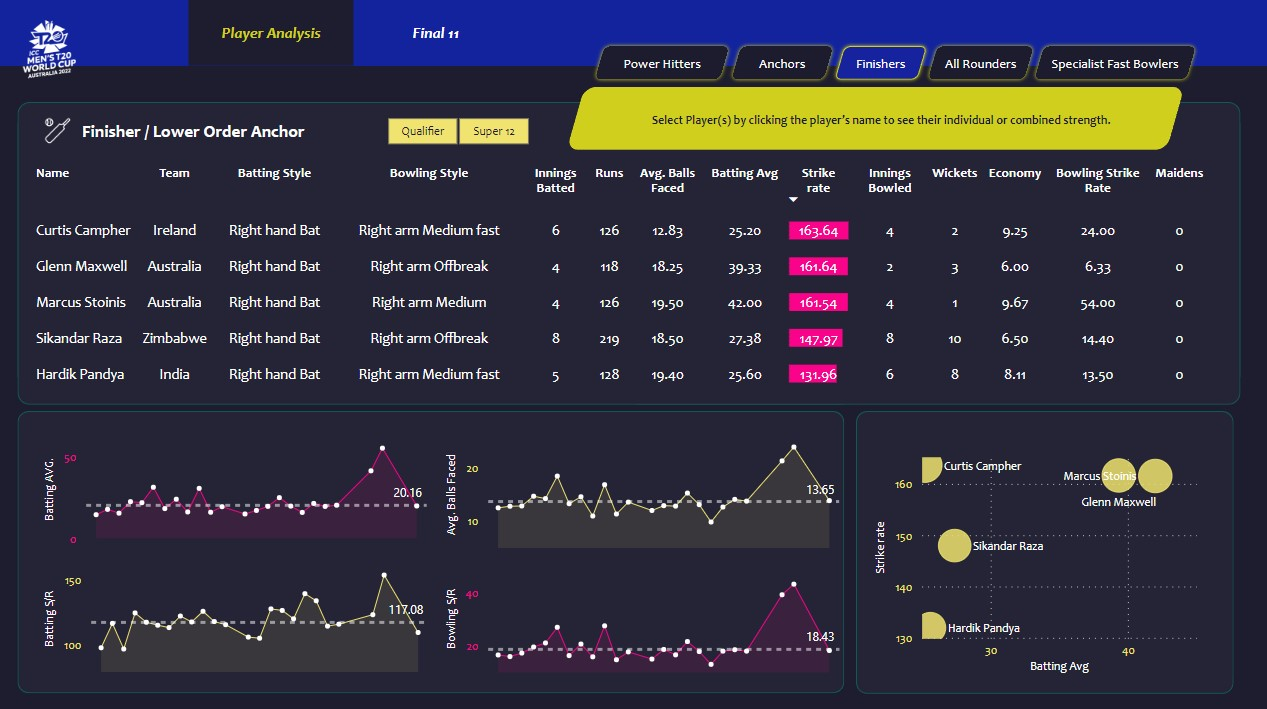

This screenshot's page, from the dashboard's own definition file:
{"tool":"powerbi","page":{"name":"New Finisher / Lower Order Anchor","canvas":[1280,720],"ordinal":2},"visuals":[{"type":"shape","box":[0,66,1280,654],"z":0},{"type":"card","fields":{"Values":["Key_Measures.Strike rate"]},"box":[867,89,93,60],"z":0,"group":"g2"},{"type":"shape","box":[83.7,116.2,260,31.2],"z":0,"group":"g1"},{"type":"card","fields":{"Values":["Key_Measures.Bat Avg"]},"box":[768,89,92,60],"z":1000,"group":"g2"},{"type":"image","box":[37.5,113.8,44,36],"z":1000,"group":"g1"},{"type":"shape","box":[20,414,832,284],"z":1000},{"type":"actionButton","box":[734,42.6,111,42],"z":2000},{"type":"card","fields":{"Values":["Key_Measures.Bowling Strike Rate"]},"box":[1073,89,100,60],"z":2000,"group":"g2"},{"type":"actionButton","box":[596,42.6,144,42],"z":3000},{"type":"card","fields":{"Values":["Key_Measures.Avergate Balls Faced"]},"box":[966,89,101,60],"z":3000,"group":"g2"},{"type":"actionButton","box":[838,42.6,101,42],"z":4000},{"type":"actionButton","box":[932,42.6,115,42],"z":5000},{"type":"actionButton","box":[1039,42.6,171,42],"z":6000},{"type":"areaChart","fields":{"Category":["dim_match_summary.Match_Date.Variation.Date Hierarchy.Day"],"Y":["Key_Measures.Avergate Balls Faced"]},"box":[446,430,406,126],"z":9000},{"type":"areaChart","fields":{"Category":["dim_match_summary.Match_Date.Variation.Date Hierarchy.Day"],"Y":["Key_Measures.Bowling Strike Rate"]},"box":[446,556,406,126],"z":11000},{"type":"areaChart","fields":{"Category":["dim_match_summary.Match_Date.Variation.Date Hierarchy.Day"],"Y":["Key_Measures.Bat Avg"]},"box":[40,428.9,395.6,126.7],"z":12000},{"type":"areaChart","fields":{"Category":["dim_match_summary.Match_Date.Variation.Date Hierarchy.Day"],"Y":["Key_Measures.Strike rate"]},"box":[40,555.6,396.7,125.6],"z":13000},{"type":"shape","box":[19.6,101.9,1231,304.8],"z":14000},{"type":"group","id":"g1","title":"Group 2","box":[37.5,113.8,306.2,36],"z":15000},{"type":"slicer","fields":{"Values":["dim_match_summary.stage"]},"box":[366.7,111.1,191.1,38.9],"z":16000},{"type":"tableEx","fields":{"Values":["dim_player.name","Min(dim_player.team)","Min(dim_player.Batting Style)","Min(dim_player.Bowling Style)","Key_Measures.Total Innings Batted","Key_Measures.Total Runs","Key_Measures.Avergate Balls Faced","Key_Measures.Bat Avg","Key_Measures.Strike rate","Key_Measures.Total Innings Bowled","Key_Measures.wickets","Key_Measures.Economy"]},"box":[26.5,150.9,1224.1,254.8],"z":17000},{"type":"shape","box":[572,88,622,63],"z":18000},{"type":"shape","box":[591,103,173,34],"z":19000},{"type":"group","id":"g2","title":"Combined Perfoamce Metrices","box":[768,89,405,60],"z":20000},{"type":"actionButton","title":"Button Player Ana selected","box":[191,0,166,66],"z":22000},{"type":"actionButton","title":"Button Player Ana selected","box":[357,0,166,66],"z":23000},{"type":"shape","box":[608.6,102.9,560.6,36.3],"z":23501},{"type":"shape","box":[863.7,414.3,380,284.8],"z":24001},{"type":"scatterChart","fields":{"Y":["Key_Measures.Strike rate"],"Category":["dim_player.name"],"X":["Key_Measures.Bat Avg"],"Size":["Key_Measures.Strike rate"]},"box":[877.1,447.3,340.9,235.5],"z":24501},{"type":"image","box":[19.2,15.4,63.4,69.2],"z":24502}]}

Visuals, with their boxes in screenshot pixels (x1, y1, x2, y2), scaled from the page's 1280x720 canvas onto the 1267x709 screenshot:
shape: l=0, t=65, r=1266, b=708
card - Key_Measures.Strike rate: l=858, t=88, r=950, b=147
shape: l=83, t=114, r=340, b=145
card - Key_Measures.Bat Avg: l=760, t=88, r=851, b=147
image: l=37, t=112, r=81, b=148
shape: l=20, t=408, r=843, b=687
actionButton: l=727, t=42, r=836, b=83
card - Key_Measures.Bowling Strike Rate: l=1062, t=88, r=1161, b=147
actionButton: l=590, t=42, r=732, b=83
card - Key_Measures.Avergate Balls Faced: l=956, t=88, r=1056, b=147
actionButton: l=829, t=42, r=929, b=83
actionButton: l=923, t=42, r=1036, b=83
actionButton: l=1028, t=42, r=1198, b=83
areaChart - dim_match_summary.Match_Date.Variation.Date Hierarchy.Day x Key_Measures.Avergate Balls Faced: l=441, t=423, r=843, b=548
areaChart - dim_match_summary.Match_Date.Variation.Date Hierarchy.Day x Key_Measures.Bowling Strike Rate: l=441, t=548, r=843, b=672
areaChart - dim_match_summary.Match_Date.Variation.Date Hierarchy.Day x Key_Measures.Bat Avg: l=40, t=422, r=431, b=547
areaChart - dim_match_summary.Match_Date.Variation.Date Hierarchy.Day x Key_Measures.Strike rate: l=40, t=547, r=432, b=671
shape: l=19, t=100, r=1238, b=400
"Group 2" group: l=37, t=112, r=340, b=148
slicer - dim_match_summary.stage: l=363, t=109, r=552, b=148
tableEx - dim_player.name x Min(dim_player.team): l=26, t=149, r=1238, b=400
shape: l=566, t=87, r=1182, b=149
shape: l=585, t=101, r=756, b=135
"Combined Perfoamce Metrices" group: l=760, t=88, r=1161, b=147
"Button Player Ana selected" actionButton: l=189, t=0, r=353, b=65
"Button Player Ana selected" actionButton: l=353, t=0, r=518, b=65
shape: l=602, t=101, r=1157, b=137
shape: l=855, t=408, r=1231, b=688
scatterChart - Key_Measures.Strike rate x dim_player.name: l=868, t=440, r=1206, b=672
image: l=19, t=15, r=82, b=83
